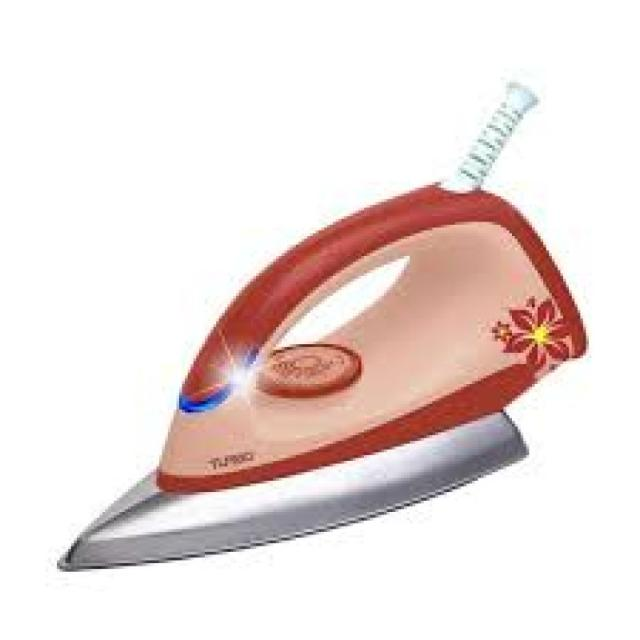Clothes-Iron: (108, 124, 510, 514)
